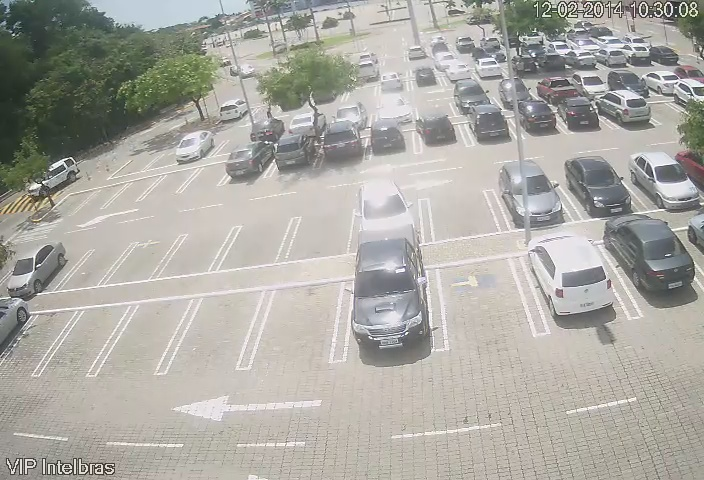car: (352, 253, 429, 343), (609, 222, 700, 294), (526, 239, 609, 316), (488, 165, 564, 227), (345, 180, 420, 231), (628, 155, 700, 207), (564, 164, 627, 212), (14, 252, 61, 296), (321, 127, 364, 167), (600, 96, 647, 128), (466, 113, 507, 145), (278, 138, 317, 170), (415, 116, 453, 148), (513, 101, 553, 131), (496, 76, 532, 109), (561, 98, 596, 131), (368, 122, 406, 152), (233, 150, 273, 178), (608, 68, 642, 94), (642, 67, 677, 92), (178, 133, 212, 158), (581, 72, 609, 102), (330, 108, 368, 128), (254, 116, 283, 142), (537, 82, 573, 101), (289, 112, 320, 134), (457, 86, 485, 110)
lot: (429, 262, 533, 342), (258, 280, 346, 374), (193, 288, 257, 373), (123, 291, 178, 378), (290, 206, 354, 270), (227, 211, 289, 273), (63, 306, 115, 379), (420, 191, 499, 236), (20, 308, 67, 381), (173, 222, 220, 279), (118, 233, 168, 284), (73, 246, 114, 294), (638, 96, 687, 129), (84, 183, 115, 219), (55, 188, 85, 224), (187, 166, 219, 197), (117, 180, 148, 211), (152, 173, 179, 207), (415, 97, 450, 120), (121, 152, 149, 179), (148, 147, 175, 170), (220, 134, 250, 153)
